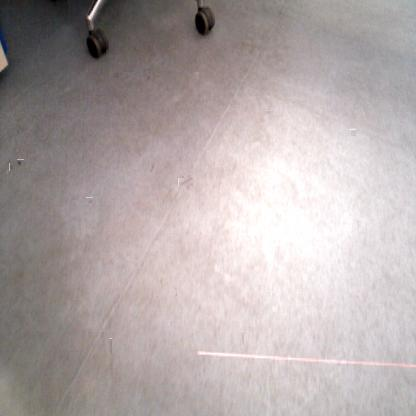mark: (180, 177, 192, 188), (150, 158, 156, 172), (108, 338, 112, 357), (240, 331, 244, 348), (17, 159, 24, 166), (86, 197, 93, 204), (350, 129, 357, 135), (9, 163, 14, 171), (267, 108, 273, 114), (174, 288, 178, 296)
